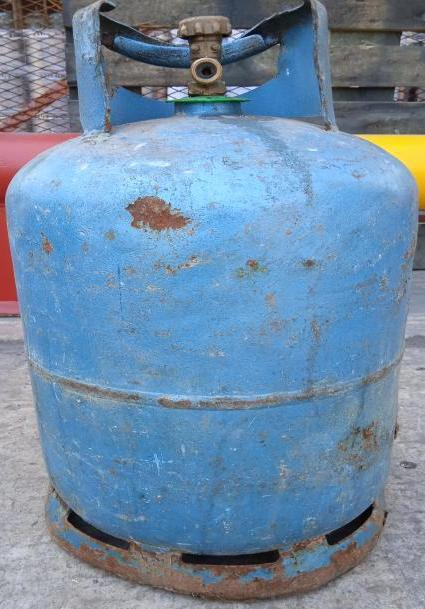cylinder: (1, 0, 425, 609)
